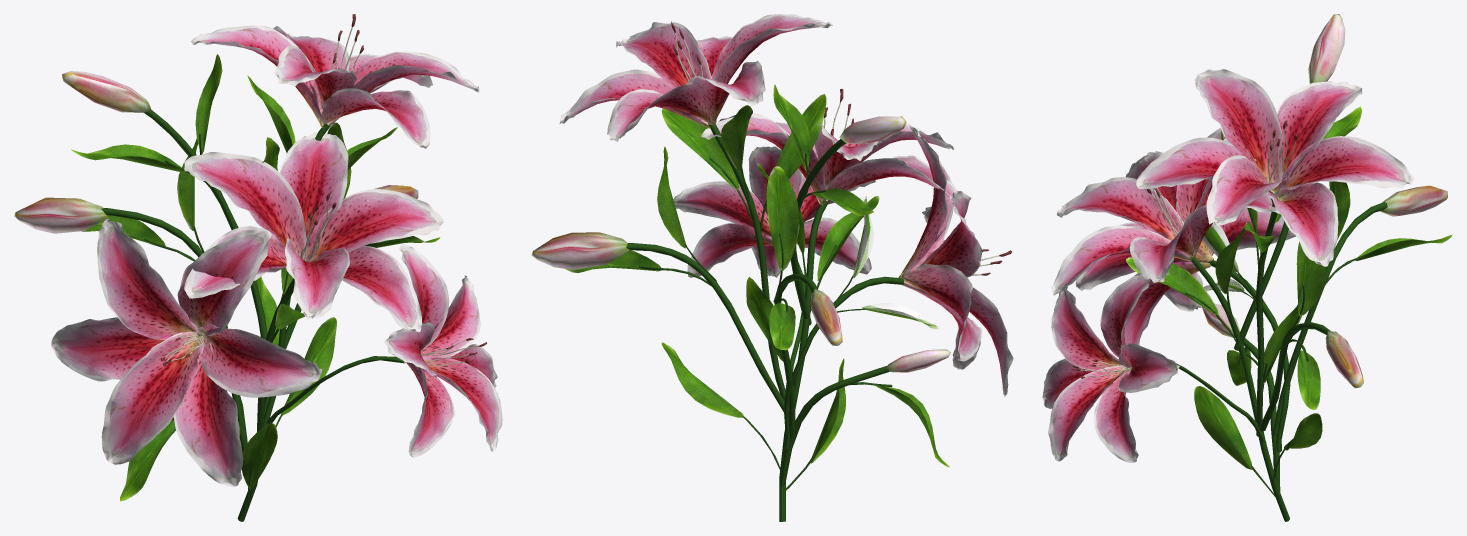
File: lilies.glb
The picture shows the model from 3 angles, left to right: view 1: azimuth 30°, elevation 25°; view 2: azimuth 150°, elevation 25°; view 3: azimuth 270°, elevation 25°; orthographic projection. The views are drawn at different scales.
Visible parts, largest first — view 1: Plane.066; view 2: Plane.066; view 3: Plane.066.
Boxes of the visible parts, box(x1,y1,x2,y2) form: Plane.066: box(14, 14, 502, 521); Plane.066: box(531, 14, 1013, 521); Plane.066: box(1042, 14, 1452, 521).
Bounding box in the file's own units: 5013 × 5745 × 4707.
6 materials, 3 textured.
